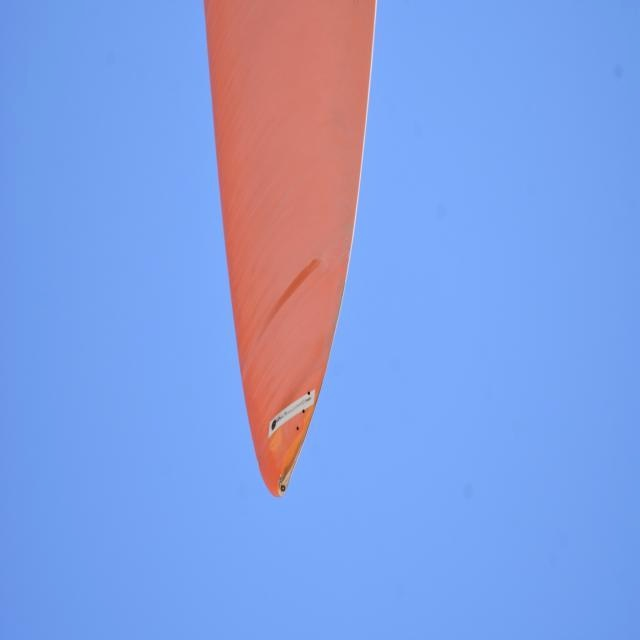Coating_defects: (277, 464, 289, 498)
Crack: (271, 388, 327, 425)
